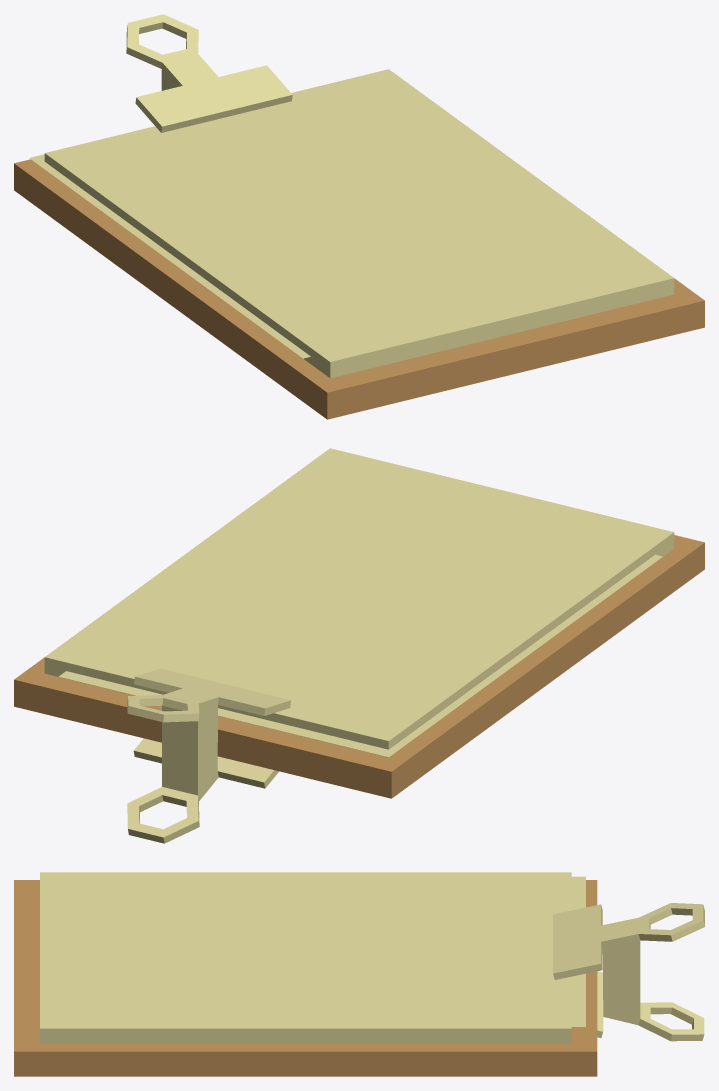
Rendered from Clipboard.fbx.
3 views of the same model, one above another, from view 1: azimuth 30°, elevation 25°; view 2: azimuth 150°, elevation 25°; view 3: azimuth 270°, elevation 25° (orthographic). The views are drawn at different scales.
Visible parts, largest first — view 1: Cube.223; view 2: Cube.223; view 3: Cube.223.
Part boxes in pixels (left/top/right/bottom): Cube.223: left=14, top=14, right=704, bottom=419; Cube.223: left=14, top=448, right=704, bottom=843; Cube.223: left=14, top=872, right=704, bottom=1076.
Bounding box in the file's own units: 200 × 65.48 × 340.
